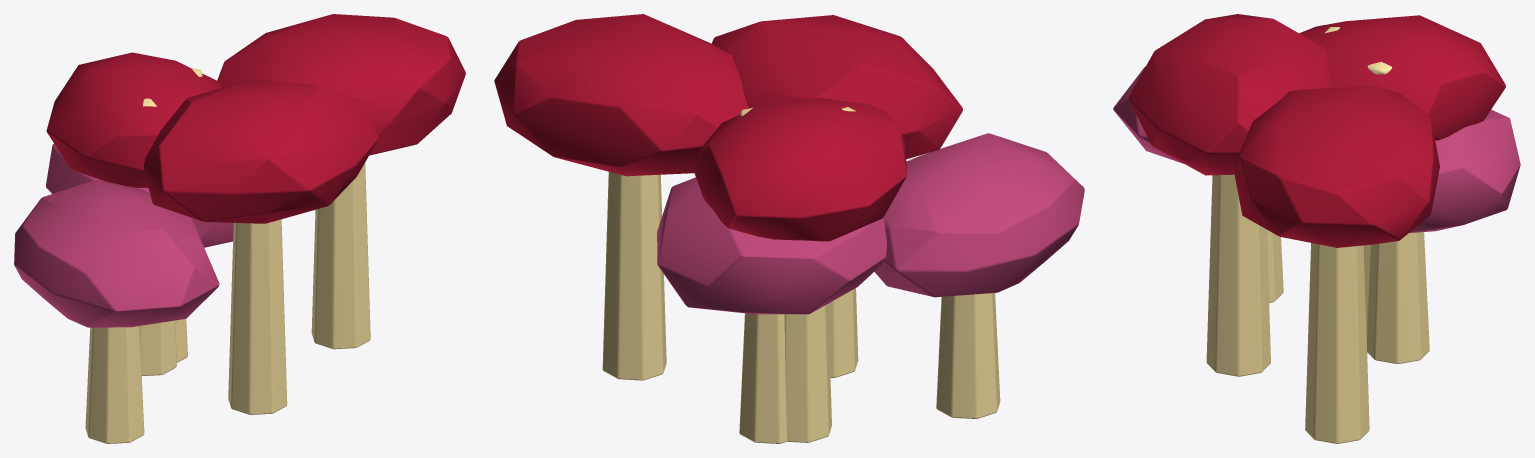
The model's file is plant_mushroom.glb.
The picture shows the model from 3 angles, left to right: view 1: azimuth 30°, elevation 25°; view 2: azimuth 150°, elevation 25°; view 3: azimuth 270°, elevation 25°; orthographic projection. The views are drawn at different scales.
Visible parts, largest first — view 1: Mushroom ivory stem.001; view 2: Mushroom ivory stem.001; view 3: Mushroom ivory stem.001.
Boxes of the visible parts, bbox=[...] form: Mushroom ivory stem.001: bbox=[14, 14, 465, 443]; Mushroom ivory stem.001: bbox=[494, 14, 1084, 443]; Mushroom ivory stem.001: bbox=[1113, 14, 1520, 443].
Size of the model in its own units: 0.7776 by 0.4981 by 0.5609.
